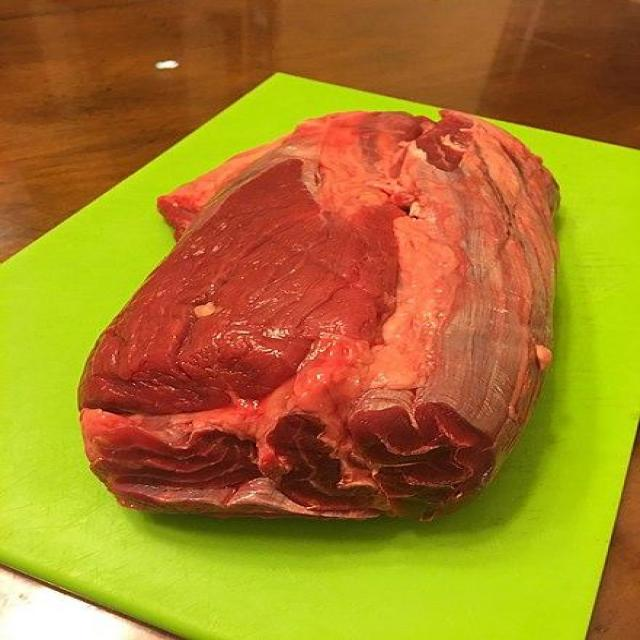Beef: (100, 93, 551, 525)
